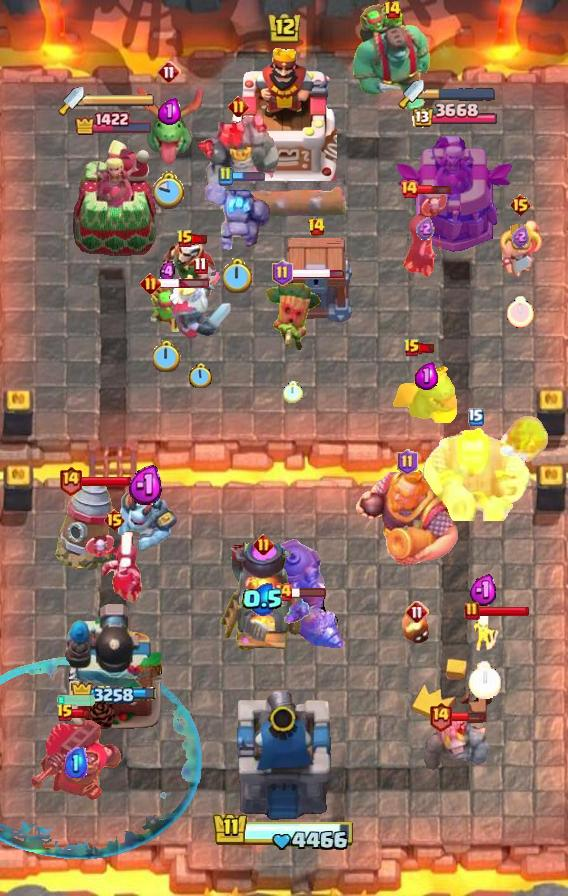bar: (391, 132, 515, 256), (70, 138, 158, 256)
barbarian: (280, 593, 310, 625)
bomb: (277, 238, 355, 324)
bomber: (402, 614, 432, 646)
cannoneer-tower: (195, 111, 281, 207)
clock: (212, 811, 356, 853)
electro-spirit: (127, 466, 164, 507), (242, 584, 284, 616), (469, 574, 499, 606), (65, 746, 88, 777), (414, 362, 438, 390), (159, 98, 182, 126), (416, 216, 434, 239), (511, 225, 529, 247), (161, 261, 176, 282)
electro-wizard: (132, 84, 206, 164), (392, 353, 460, 423)
elixir: (154, 171, 187, 209), (468, 661, 501, 699), (223, 259, 253, 294), (153, 340, 181, 372), (507, 296, 533, 328), (188, 363, 212, 390), (283, 381, 303, 403)
elixir-golem-small: (114, 487, 178, 553)
emote: (290, 268, 345, 281), (80, 475, 132, 487), (478, 605, 530, 617), (158, 278, 210, 289), (417, 184, 452, 197), (230, 170, 266, 182), (291, 586, 327, 598), (450, 710, 486, 721), (72, 708, 91, 720), (419, 343, 437, 354), (192, 234, 209, 245)
giant-skeleton: (354, 466, 460, 568), (421, 427, 531, 521)
giant-snowball: (146, 286, 188, 332)
goblin-barrel: (264, 276, 322, 354)
goblin-giant: (497, 219, 543, 279)
heal-spirit: (467, 610, 501, 652)
hunter: (219, 543, 307, 653)
ice-spirit: (55, 695, 97, 707)
inferno-tower: (28, 717, 124, 803)
king-tower: (232, 686, 336, 826), (231, 45, 337, 181)
king-tower-bar: (424, 87, 496, 101), (84, 93, 156, 107)
lava-hound: (350, 1, 434, 113)
magic-archer: (54, 478, 114, 572)
minion: (246, 184, 348, 224)
mortar-evolution: (168, 272, 232, 344)
pad_0: (0, 657, 203, 863)
rascal-boy: (83, 532, 145, 604), (402, 192, 448, 280)
selected: (411, 102, 498, 129), (70, 681, 157, 707), (74, 112, 154, 137)
skeleton-king: (163, 237, 229, 307)
text: (57, 464, 82, 495), (428, 700, 453, 731), (157, 60, 181, 84), (405, 600, 429, 624), (509, 193, 532, 217), (102, 508, 125, 532), (272, 260, 293, 286), (398, 449, 419, 475), (254, 533, 275, 555), (227, 96, 248, 117), (140, 273, 161, 294), (399, 179, 419, 199), (306, 217, 326, 237), (273, 582, 293, 602), (383, 0, 402, 20), (176, 229, 194, 249), (403, 338, 421, 358), (56, 703, 74, 723), (217, 166, 233, 186), (464, 601, 480, 621), (468, 408, 484, 426), (193, 257, 208, 275)
tower-bar: (64, 601, 164, 731)
valkyrie: (499, 411, 551, 467)
valkyrie-evolution: (205, 179, 271, 251), (424, 717, 490, 777)
wizard: (264, 537, 346, 651)
